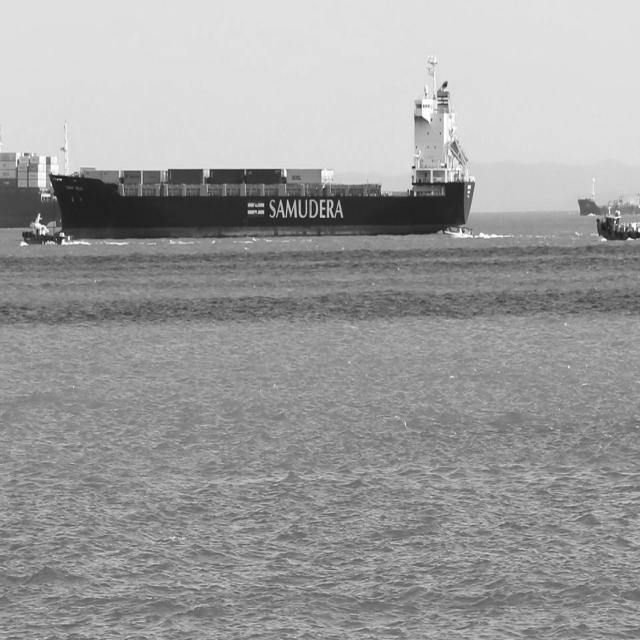ship: (49, 49, 476, 239), (0, 148, 59, 228), (576, 177, 640, 218), (20, 211, 70, 246), (596, 212, 639, 241), (445, 223, 476, 240)
